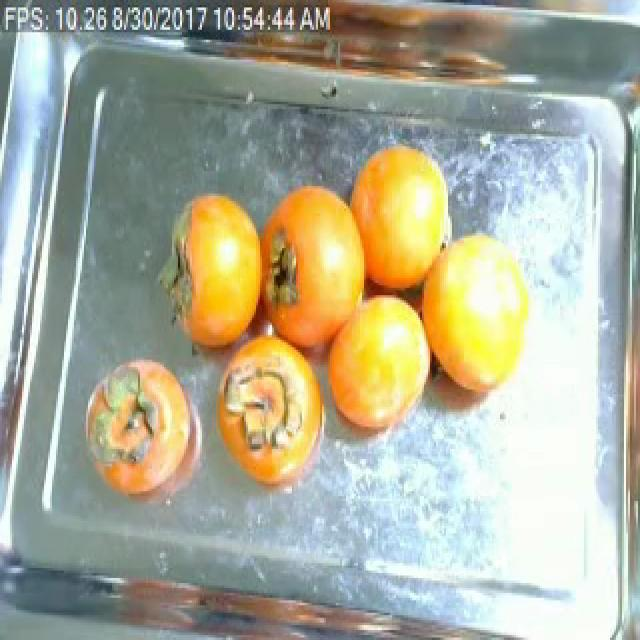Fruit: (418, 216, 544, 412), (160, 178, 284, 364), (76, 345, 210, 513), (254, 169, 380, 332), (342, 131, 462, 278)
